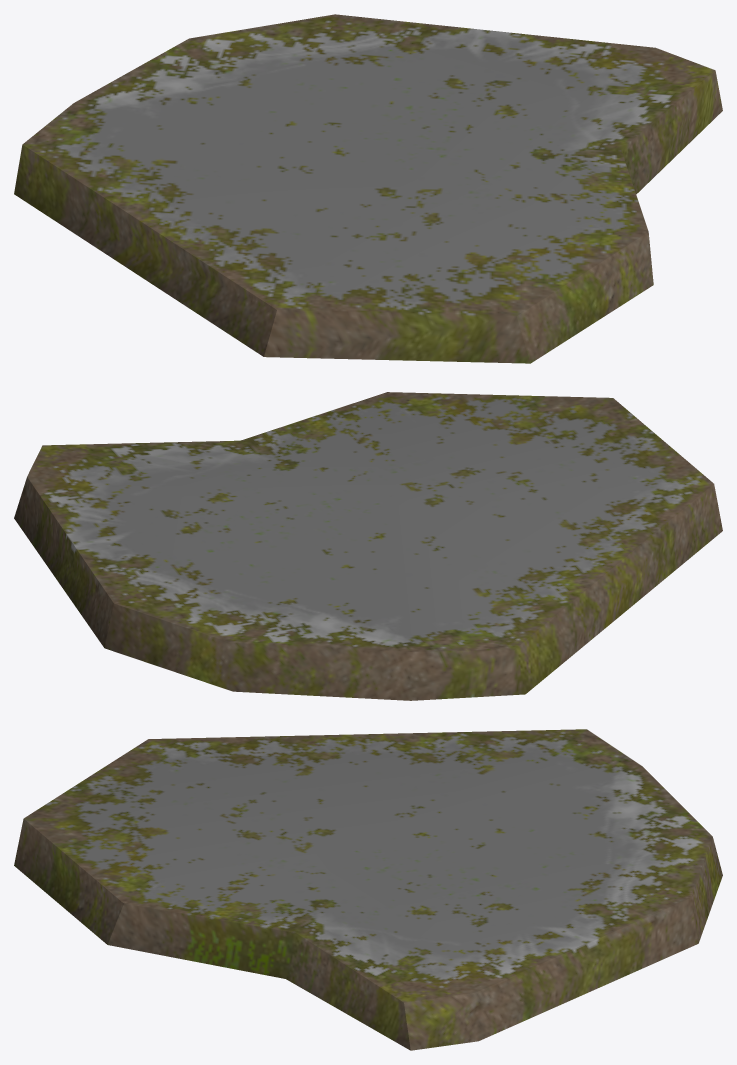
The model's file is ROK0210007.fbx.
3 views of the same model, one above another, from view 1: azimuth 30°, elevation 25°; view 2: azimuth 150°, elevation 25°; view 3: azimuth 270°, elevation 25° (orthographic). The views are drawn at different scales.
Visible parts, largest first — view 1: smROK0210007; view 2: smROK0210007; view 3: smROK0210007.
Boxes of the visible parts, x1,y1,x2,y2 form: smROK0210007: (14, 14, 722, 363); smROK0210007: (14, 392, 722, 700); smROK0210007: (14, 729, 722, 1050).
Size of the model in its own units: 141 by 10 by 149.
